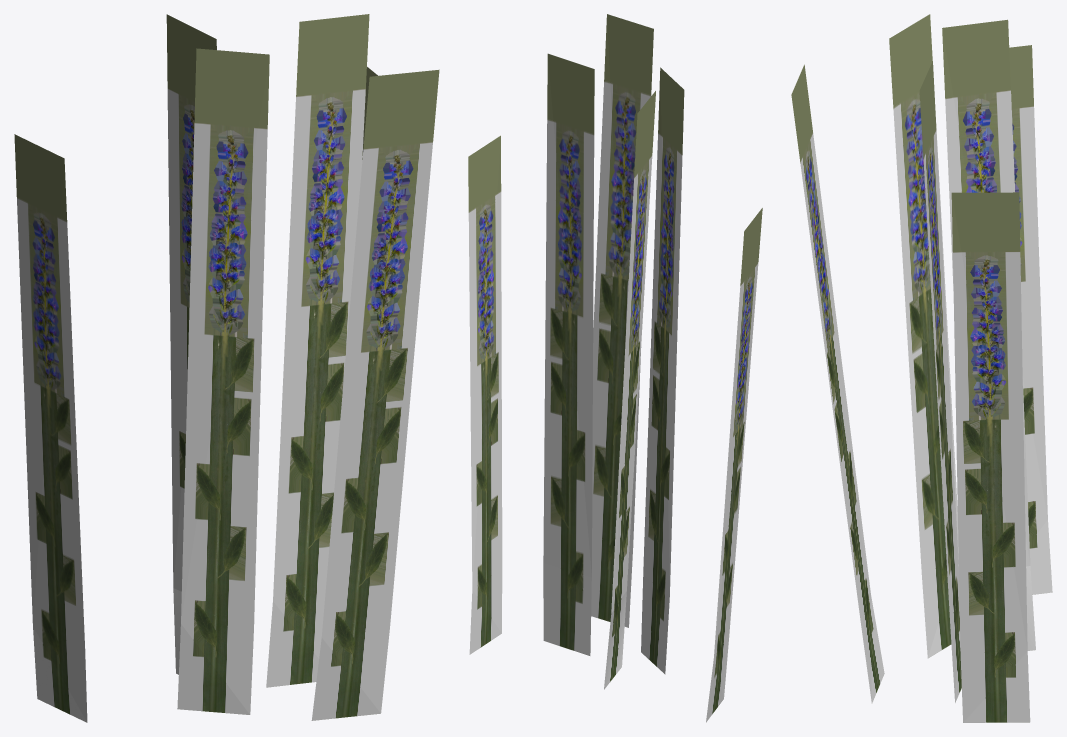
The model's file is undergrowth_violette_flowers.DAE.
The picture shows the model from 3 angles, left to right: view 1: azimuth 30°, elevation 25°; view 2: azimuth 150°, elevation 25°; view 3: azimuth 270°, elevation 25°; orthographic projection. The views are drawn at different scales.
Visible parts, largest first — view 1: polySurface014; view 2: polySurface014; view 3: polySurface014.
Part boxes in pixels (box(x1,y1,x2,y2)): polySurface014: box(14, 14, 439, 722); polySurface014: box(468, 14, 762, 722); polySurface014: box(791, 14, 1052, 722).
Size of the model in its own units: 0.0761 by 0.1482 by 0.0564.
